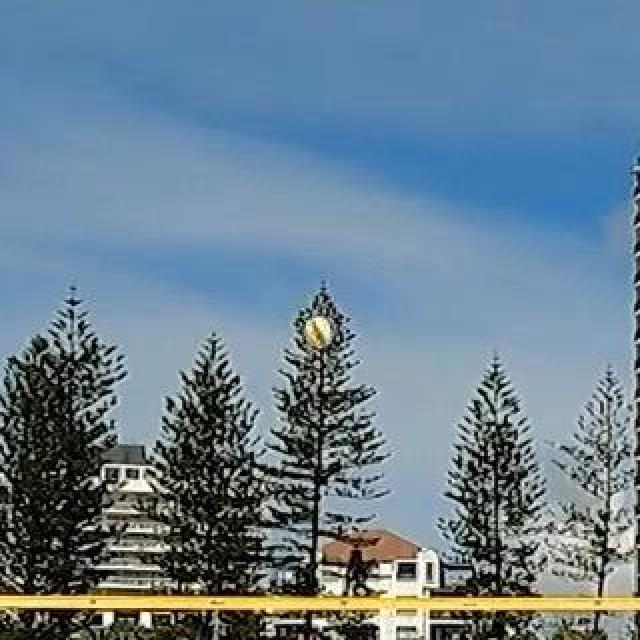volleyball: (304, 318, 336, 350)
